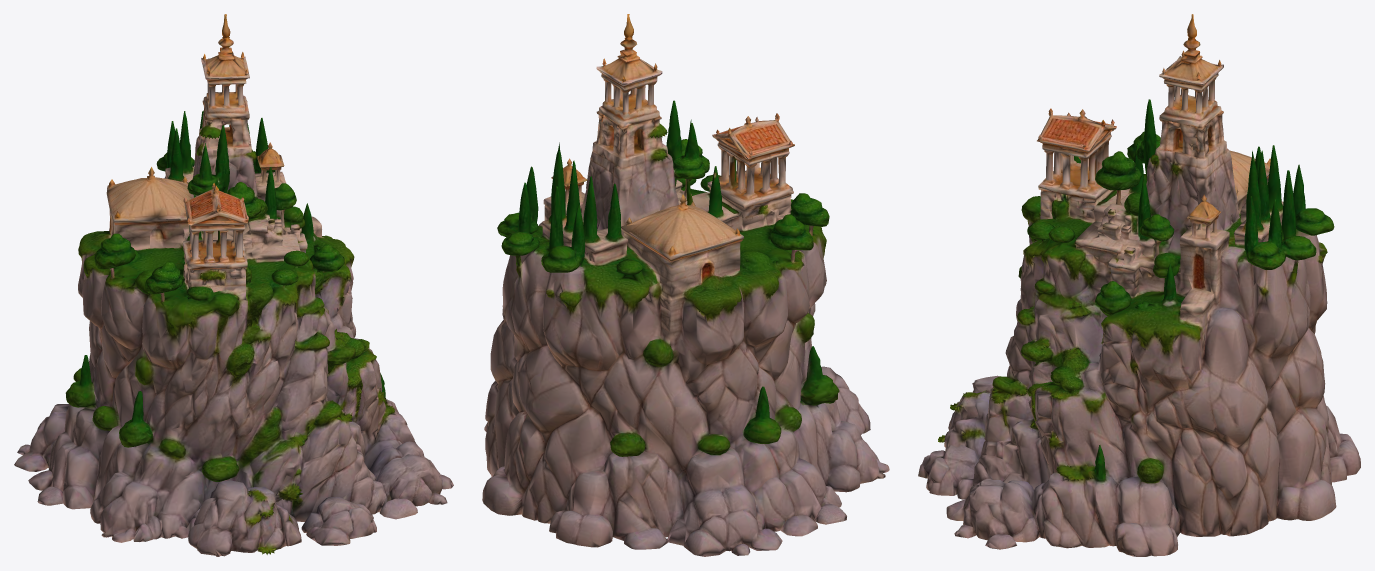
Rendered from temple_odyssey.glb.
3 views of the same model, side by side, from view 1: azimuth 30°, elevation 25°; view 2: azimuth 150°, elevation 25°; view 3: azimuth 270°, elevation 25° (orthographic). The views are drawn at different scales.
Parts seen in each view (by area): view 1: tripo_node_71f394f0-0bb3-40f1-98fc-a9fd2f887911; view 2: tripo_node_71f394f0-0bb3-40f1-98fc-a9fd2f887911; view 3: tripo_node_71f394f0-0bb3-40f1-98fc-a9fd2f887911.
Part boxes in pixels (bbox=[...]): tripo_node_71f394f0-0bb3-40f1-98fc-a9fd2f887911: bbox=[14, 14, 453, 556]; tripo_node_71f394f0-0bb3-40f1-98fc-a9fd2f887911: bbox=[482, 14, 889, 556]; tripo_node_71f394f0-0bb3-40f1-98fc-a9fd2f887911: bbox=[918, 14, 1360, 556].
Size of the model in its own units: 0.8156 by 0.9795 by 0.8449.
1 material, 1 textured.
